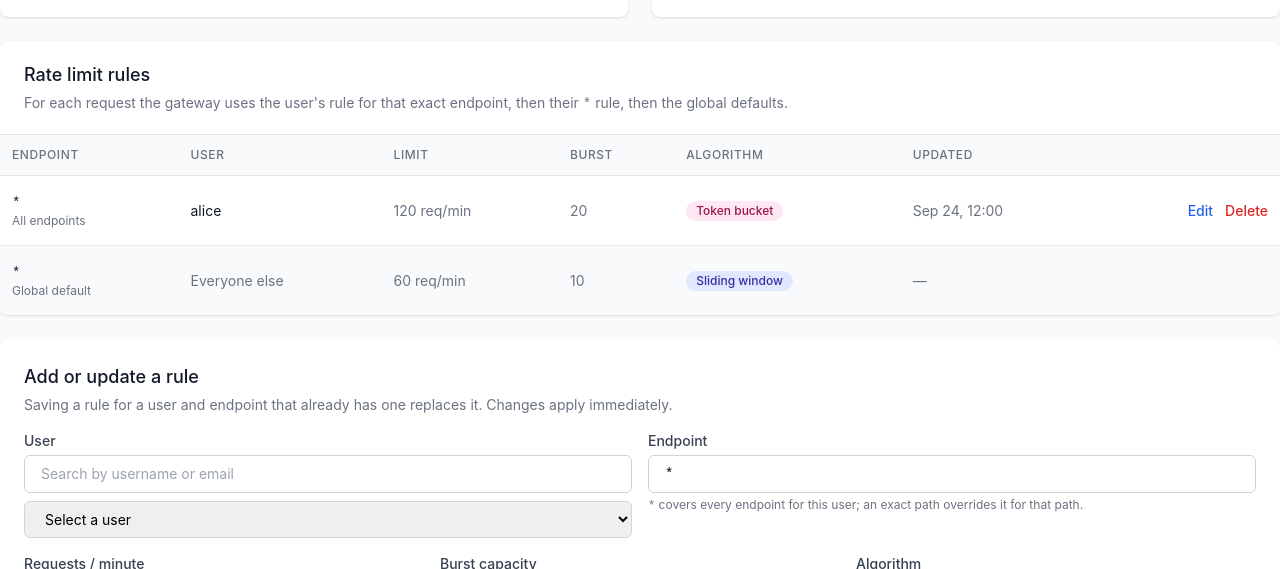
Scenario: RateLimitMonitor › admins can edit and delete rules, and API errors are shown
(page scrolled)
Step 1. Click the button "Edit" → (1200, 210), box [1188, 200, 1213, 220]
(page scrolled)
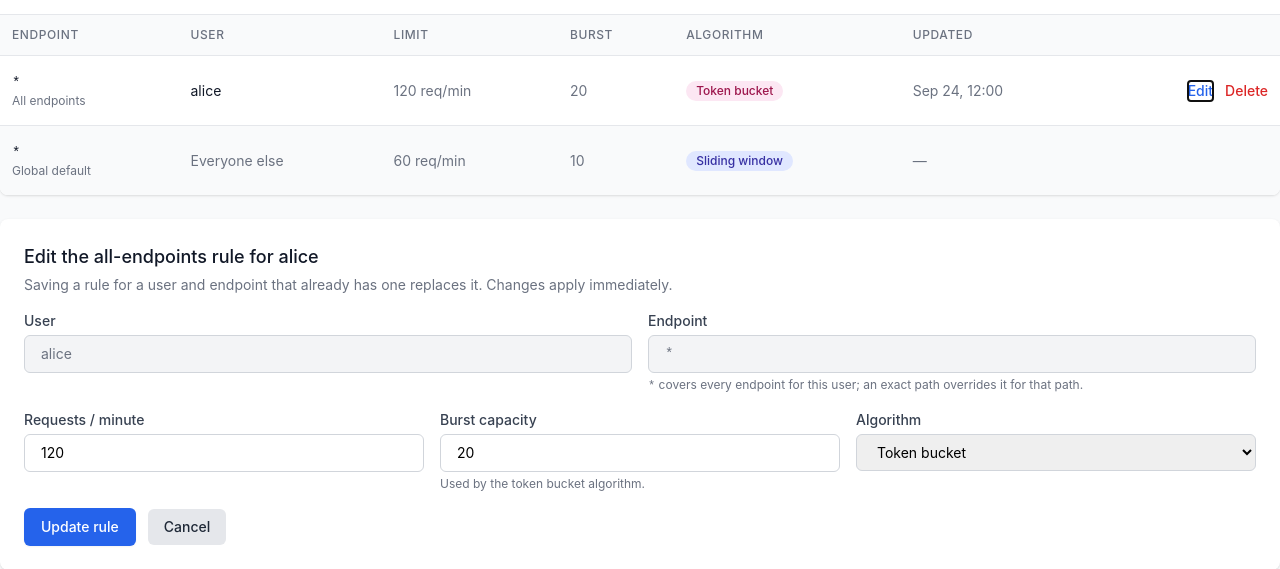
Expected: the field labelled "Endpoint" is disabled, [648, 335, 1256, 373]
Result: the heading "Edit the all-endpoints rule for alice" is shown at [24, 246, 319, 267]
Result: the number field labelled "Requests / minute" holds "120"
Step 2. Replace the text in the number field labelled "Requests / minute" with "240" → (224, 453), box [24, 434, 424, 472]
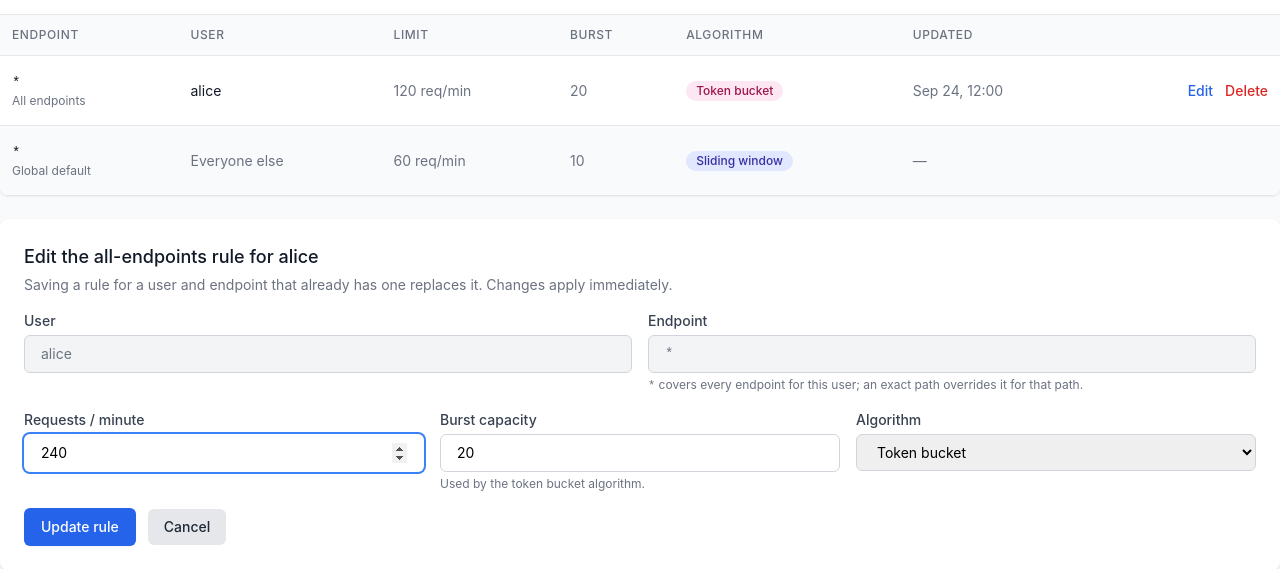
Step 3. Click the button "Update rule" → (80, 527), box [24, 508, 136, 546]
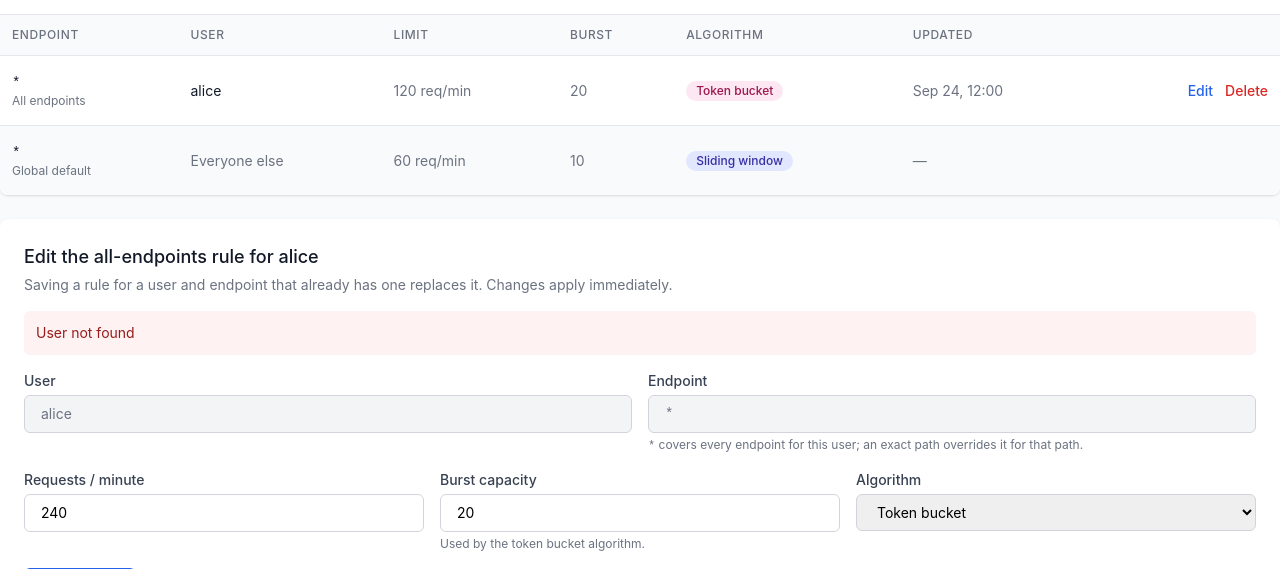
Result: the text "User not found" is shown at [24, 311, 1256, 355]
Step 4. Click the button "Delete" → (1247, 90), box [1225, 80, 1268, 100]
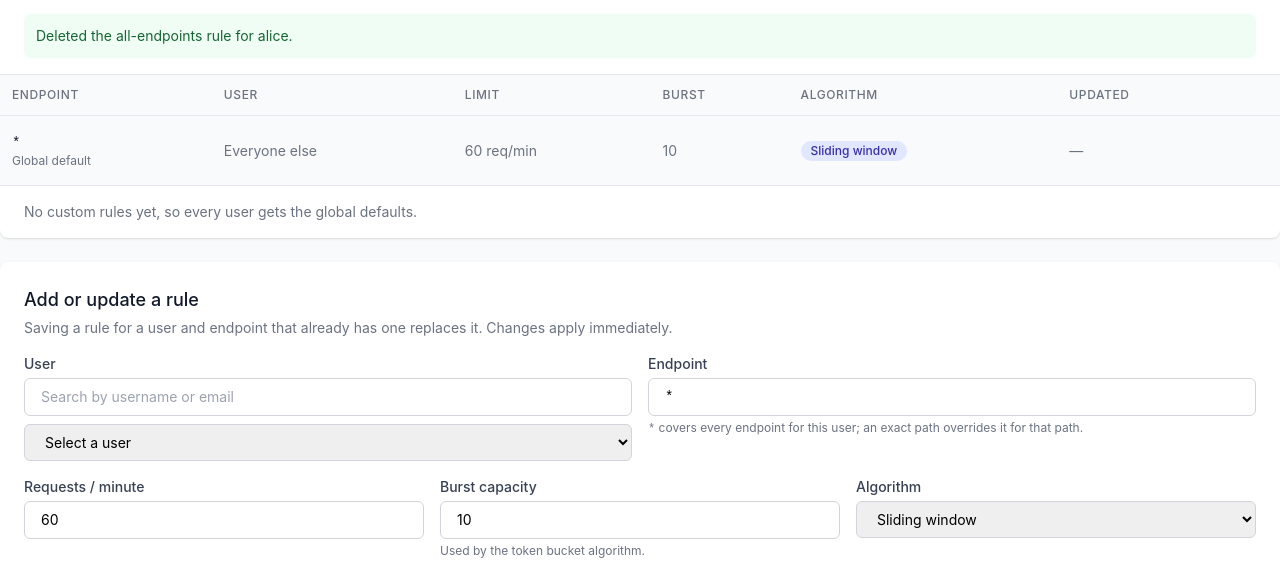
Result: the text "120 req/min" is gone
Result: the text "Deleted the all-endpoints rule for alice." is shown at [24, 14, 1256, 58]
